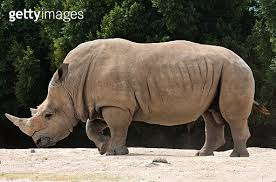Rhinoceros: (5, 31, 255, 158)
